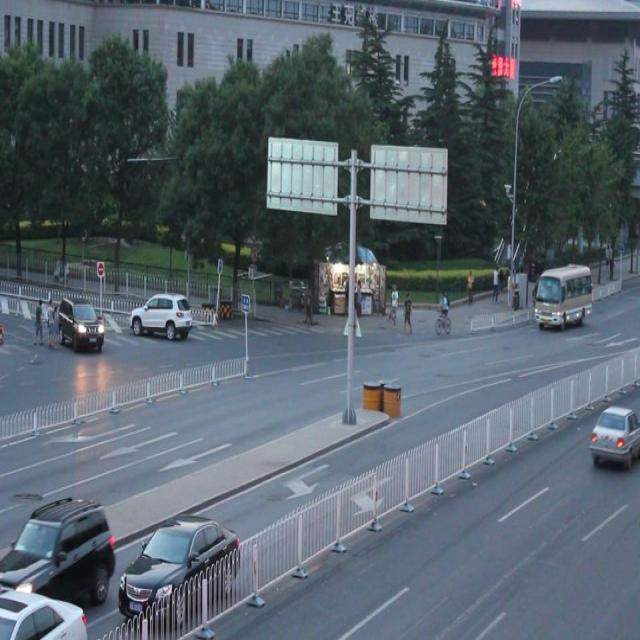car: (120, 512, 242, 627), (1, 496, 115, 606), (0, 585, 89, 640), (128, 292, 192, 342), (588, 403, 640, 461), (57, 294, 105, 351)
truck: (534, 264, 590, 325)
